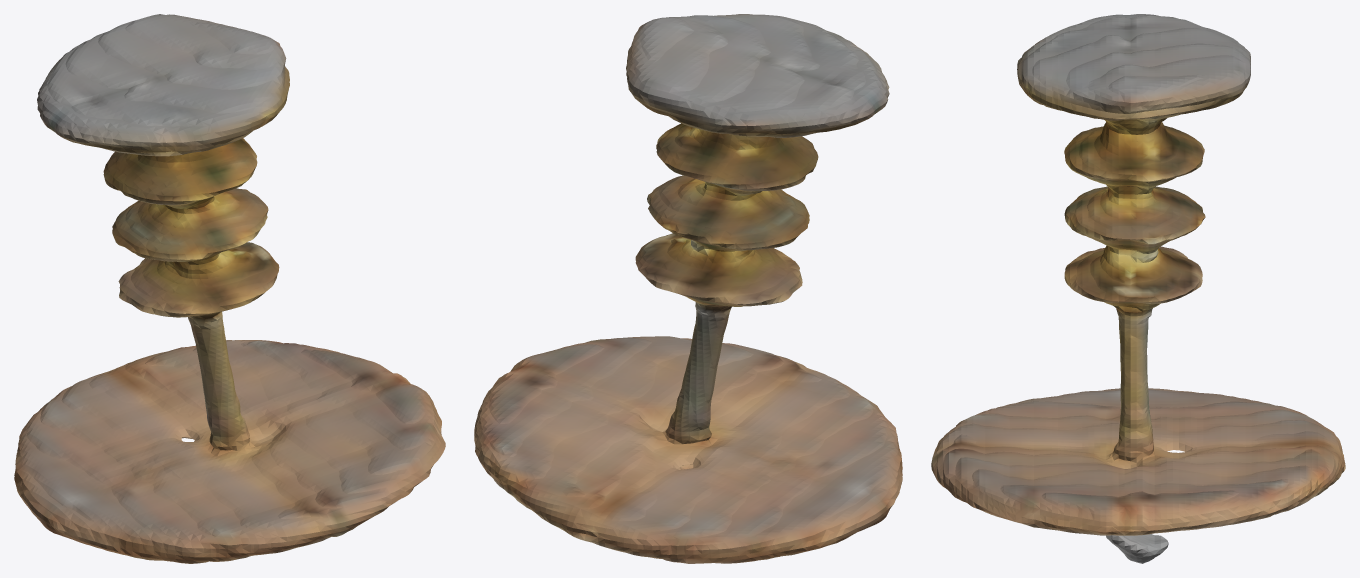
File: nixa-side-table.glb
3 renders of one model, left to right at view 1: azimuth 30°, elevation 25°; view 2: azimuth 150°, elevation 25°; view 3: azimuth 270°, elevation 25°, orthographic. The views are drawn at different scales.
Parts seen in each view (by area): view 1: orient; view 2: orient; view 3: orient.
Boxes of the visible parts, x1=… form: orient: x1=14, y1=14, x2=445, y2=563; orient: x1=474, y1=14, x2=902, y2=563; orient: x1=931, y1=14, x2=1345, y2=563.
Bounding box in the file's own units: 0.445 × 0.572 × 0.445.
